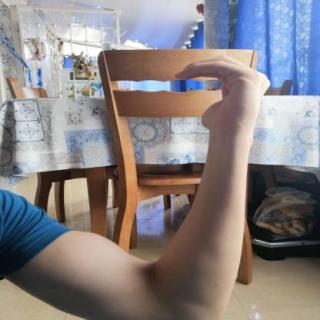HAA: (165, 50, 278, 142)
